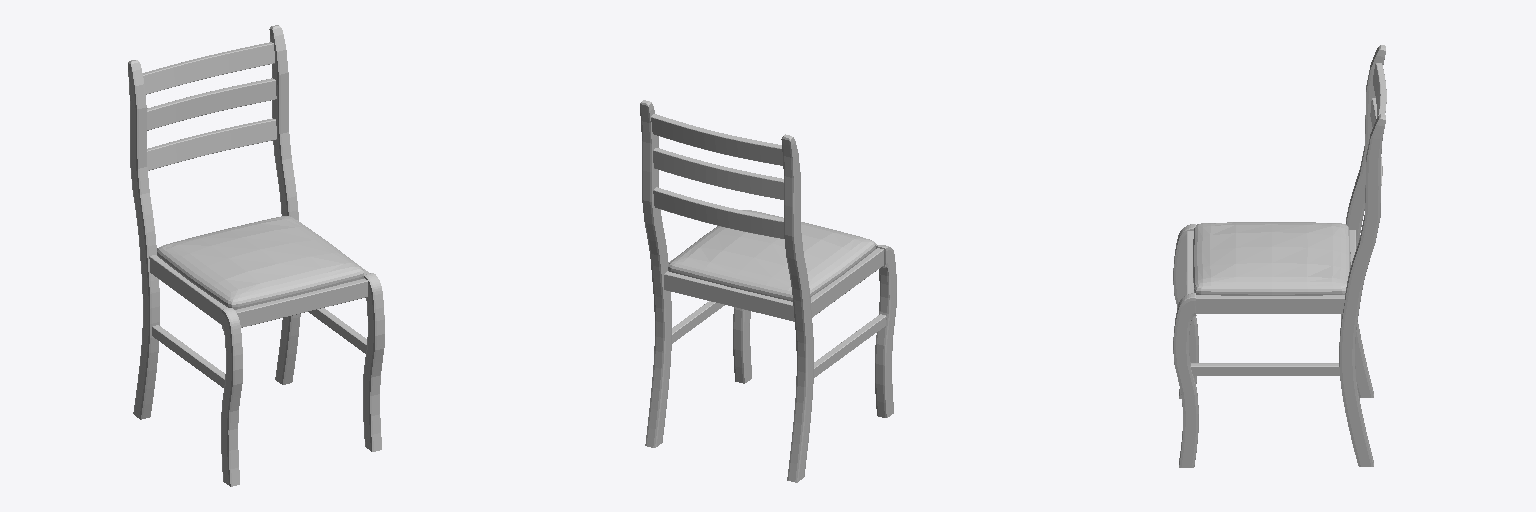
Rendered from chair.obj.
The picture shows the model from 3 angles: view 1: azimuth 30°, elevation 25°; view 2: azimuth 150°, elevation 25°; view 3: azimuth 270°, elevation 25°; orthographic projection.
Parts seen in each view (by area): view 1: chair_Cube.012; view 2: chair_Cube.012; view 3: chair_Cube.012.
Boxes of the visible parts, x1,y1,x2,y2 form: chair_Cube.012: [128, 25, 384, 486]; chair_Cube.012: [640, 100, 896, 482]; chair_Cube.012: [1173, 45, 1386, 467].
Size of the model in its own units: 5.5 by 12.1 by 6.69.